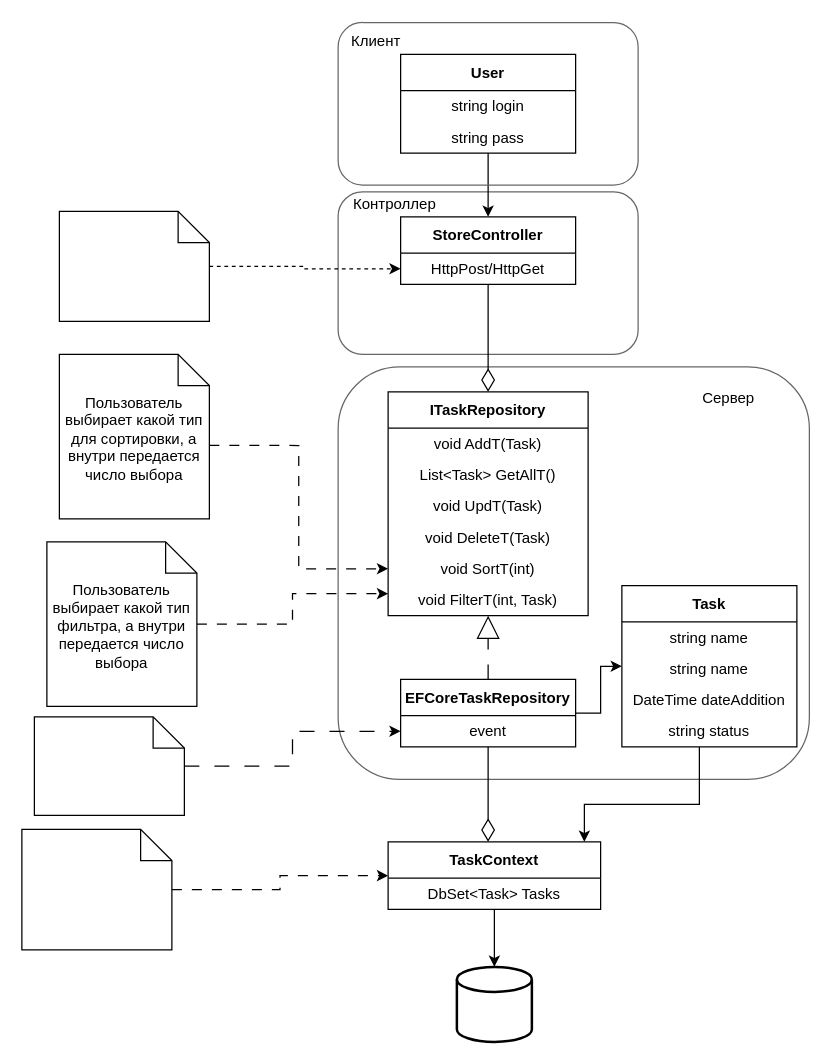
The diagram is 831 pixels wide and 1064 high, and some of its shapes have lost their labels. Each missing label, with the centre of its shape:
"DB" goes at [493,1003].
"Глянула на код программы, так и не поняла зачем он нужен" goes at [96,889].
"Если они будут нужны. А так я не хочу их прописывать" goes at [108,765].
"Прописывать лень. Запросы будут по основным функциям" goes at [133,265].
